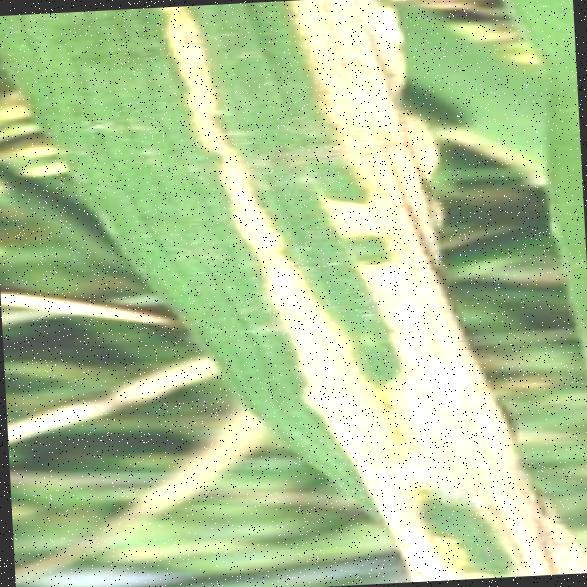Bacteria_Leaf_Blight: (104, 0, 457, 511)
